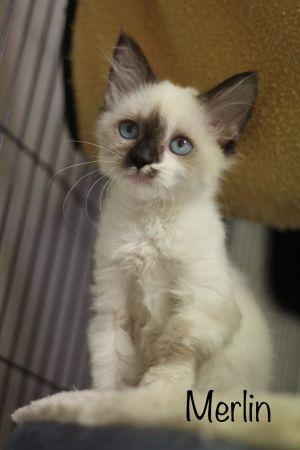siamese: (82, 20, 268, 217)
